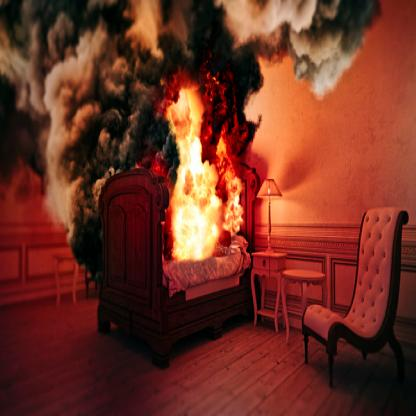fire: (168, 82, 231, 259)
smoke: (0, 5, 381, 283)
